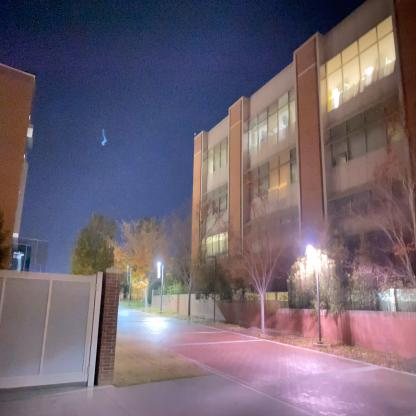eb2: (190, 71, 415, 292)
